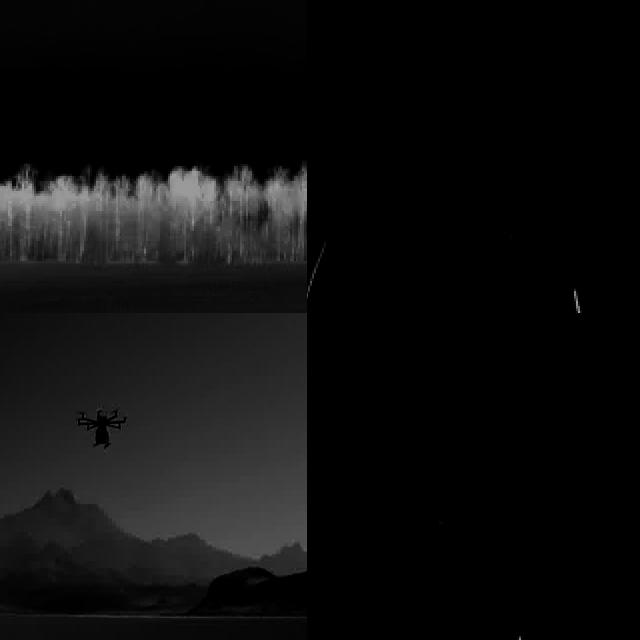0: (432, 510, 456, 543), (503, 221, 523, 251)
drone: (76, 401, 128, 451)
